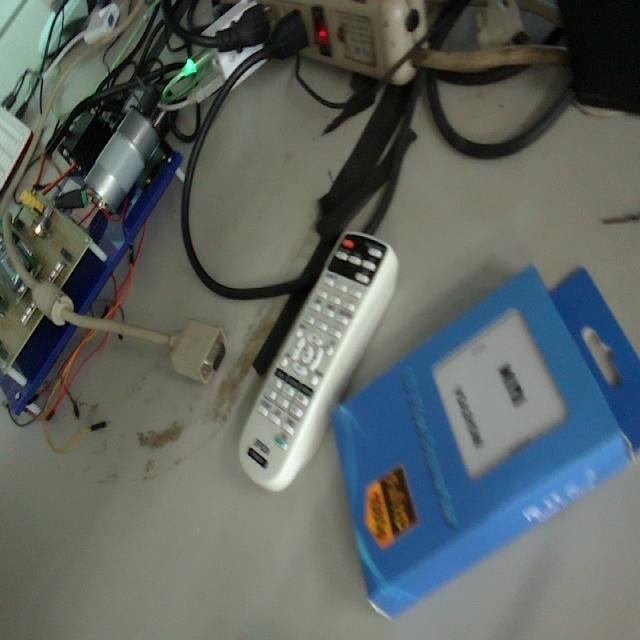remote: (334, 270, 640, 622), (239, 230, 405, 500)
